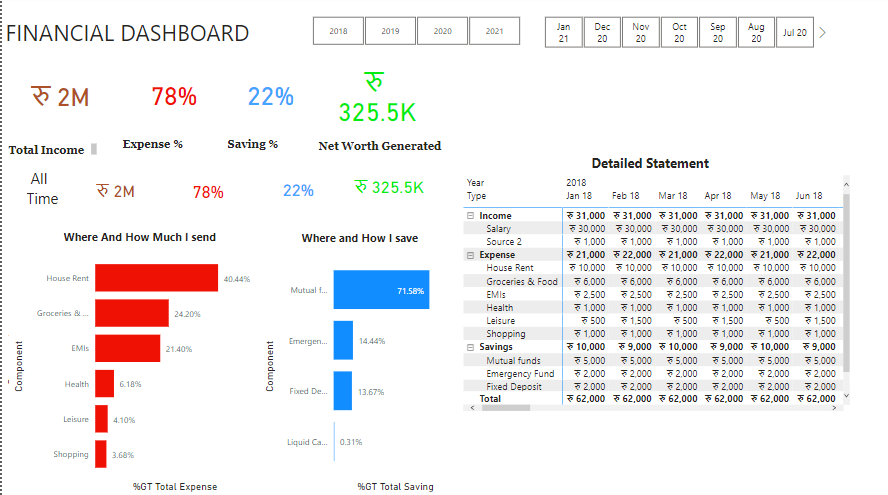

What the dashboard file says about the page in this screenshot:
{"tool":"powerbi","page":{"name":"Page 1","canvas":[1280,720],"ordinal":0},"visuals":[{"type":"card","fields":{"Values":["Key Measure.Total Income"]},"box":[1.4,83.5,165.6,118.1],"z":0},{"type":"card","fields":{"Values":["Key Measure.Expense %"]},"box":[187.7,80.6,121,121],"z":1000},{"type":"card","fields":{"Values":["Key Measure.Savings %"]},"box":[329.3,80.6,113.8,121],"z":2000},{"type":"card","fields":{"Values":["Key Measure.Total Saving"]},"box":[463.7,83.5,152.6,118.1],"z":3000},{"type":"textbox","box":[4.3,207.4,136.8,25.9],"z":4000},{"type":"textbox","box":[168,198.7,125.3,34.6],"z":5000},{"type":"textbox","box":[450.2,201.6,189.8,52.1],"z":6000},{"type":"textbox","box":[320.2,198.7,103.7,34.6],"z":7000},{"type":"slicer","fields":{"Values":["FinData.Year"]},"box":[404.6,23,344.2,54.7],"z":8000},{"type":"slicer","fields":{"Values":["FinData.Date"]},"box":[755.9,23.5,436.7,53.8],"z":9000},{"type":"card","fields":{"Values":["Key Measure.Total Saving"]},"box":[493.9,228.5,126.7,92.2],"z":10000},{"type":"card","fields":{"Values":["Key Measure.Savings %"]},"box":[361.4,240,129.6,76.3],"z":11000},{"type":"card","fields":{"Values":["Key Measure.Expense %"]},"box":[234.7,242.9,123.8,74.9],"z":12000},{"type":"card","fields":{"Values":["Key Measure.Total Income"]},"box":[96.5,241.4,135.4,76.3],"z":13000},{"type":"textbox","box":[30.2,243.6,62.2,99.1],"z":14000},{"type":"textbox","box":[0,25.2,404.8,58.8],"z":15000},{"type":"clusteredBarChart","fields":{"Category":["FinData.Component"],"Y":["Key Measure.Total Expense"]},"box":[0,342.7,358.6,365.8],"z":16000},{"type":"clusteredBarChart","fields":{"Category":["FinData.Component"],"Y":["Key Measure.Total Expense"]},"box":[10,352.7,358.6,365.8],"z":17000},{"type":"textbox","box":[84,330.9,267.1,43.7],"z":18000},{"type":"clusteredBarChart","fields":{"Category":["FinData.Component"],"Y":["Key Measure.Total Saving"]},"box":[371.2,352.8,288.9,366.2],"z":19000},{"type":"textbox","box":[426.7,332.6,218.4,42],"z":20000},{"type":"pivotTable","fields":{"Values":["Key Measure.Values"],"Rows":["FinData.Type","FinData.Component"],"Columns":["FinData.Year","FinData.Date"]},"box":[660.2,253.6,566.1,349.4],"z":21000},{"type":"textbox","box":[843.3,223.4,201.6,38.6],"z":22000}]}

Visuals, with their boxes in screenshot pixels (x1, y1, x2, y2), scaled from the page's 1280x720 canvas onto the 888x495 screenshot:
card - Key Measure.Total Income: crop(1, 57, 116, 139)
card - Key Measure.Expense %: crop(130, 55, 214, 139)
card - Key Measure.Savings %: crop(228, 55, 307, 139)
card - Key Measure.Total Saving: crop(322, 57, 428, 139)
textbox: crop(3, 143, 98, 160)
textbox: crop(117, 137, 203, 160)
textbox: crop(312, 139, 444, 174)
textbox: crop(222, 137, 294, 160)
slicer - FinData.Year: crop(281, 16, 519, 53)
slicer - FinData.Date: crop(524, 16, 827, 53)
card - Key Measure.Total Saving: crop(343, 157, 431, 220)
card - Key Measure.Savings %: crop(251, 165, 341, 217)
card - Key Measure.Expense %: crop(163, 167, 249, 218)
card - Key Measure.Total Income: crop(67, 166, 161, 218)
textbox: crop(21, 167, 64, 236)
textbox: crop(0, 17, 281, 58)
clusteredBarChart - FinData.Component x Key Measure.Total Expense: crop(0, 236, 249, 487)
clusteredBarChart - FinData.Component x Key Measure.Total Expense: crop(7, 242, 256, 494)
textbox: crop(58, 227, 244, 258)
clusteredBarChart - FinData.Component x Key Measure.Total Saving: crop(258, 243, 458, 494)
textbox: crop(296, 229, 448, 258)
pivotTable - Key Measure.Values x FinData.Type: crop(458, 174, 851, 415)
textbox: crop(585, 154, 725, 180)
